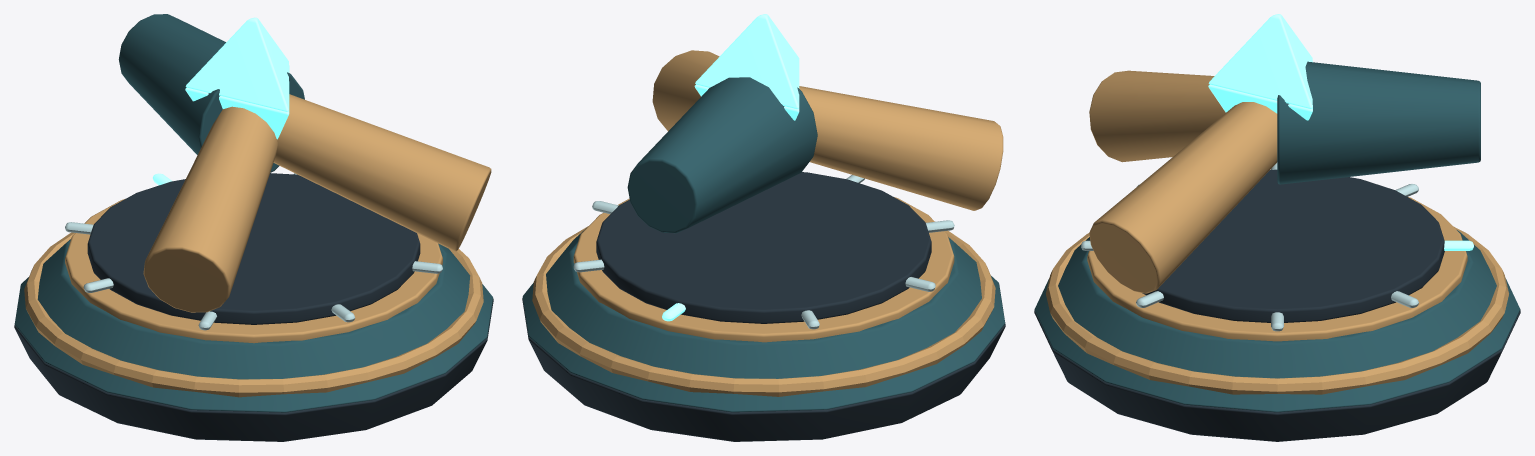
The model's file is primaryLogicGate.glb.
3 views of the same model, side by side, from view 1: azimuth 30°, elevation 25°; view 2: azimuth 150°, elevation 25°; view 3: azimuth 270°, elevation 25° (orthographic).
Visible parts, largest first — view 1: primaryLogicGate; view 2: primaryLogicGate; view 3: primaryLogicGate.
Part boxes in pixels (x1,y1,x2,y2): primaryLogicGate: (14,14,493,441); primaryLogicGate: (522,14,1005,441); primaryLogicGate: (1034,14,1520,441).
Size of the model in its own units: 1.08 by 0.81 by 1.08.
